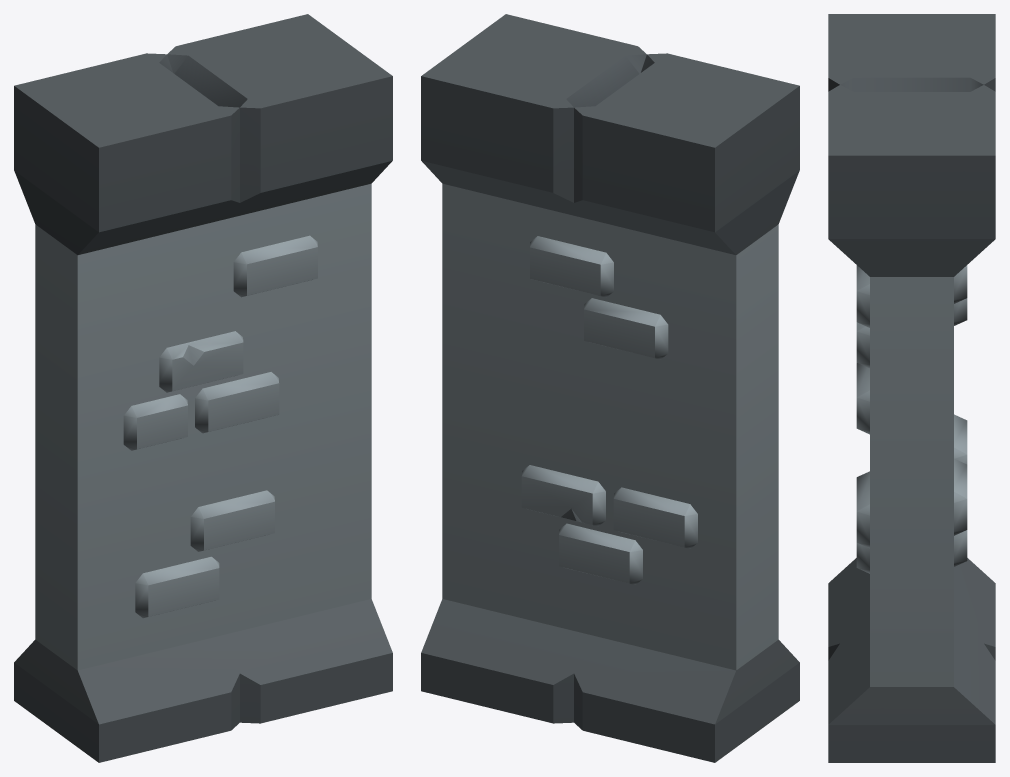
The model's file is dungeon-wall-half.glb.
3 views of the same model, side by side, from view 1: azimuth 30°, elevation 25°; view 2: azimuth 150°, elevation 25°; view 3: azimuth 270°, elevation 25° (orthographic).
Parts seen in each view (by area): view 1: dungeon-wall-half; view 2: dungeon-wall-half; view 3: dungeon-wall-half.
Boxes of the visible parts, <box> form: dungeon-wall-half: <box>14,14,392,762</box>; dungeon-wall-half: <box>421,14,799,762</box>; dungeon-wall-half: <box>828,14,995,762</box>.
Size of the model in its own units: 1.5 by 3 by 0.7501.
Materials: 1 (1 with a texture image).
